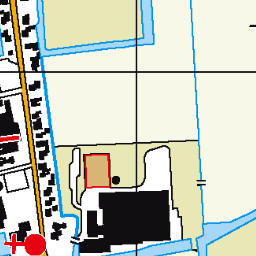church: (3, 228, 48, 256)
